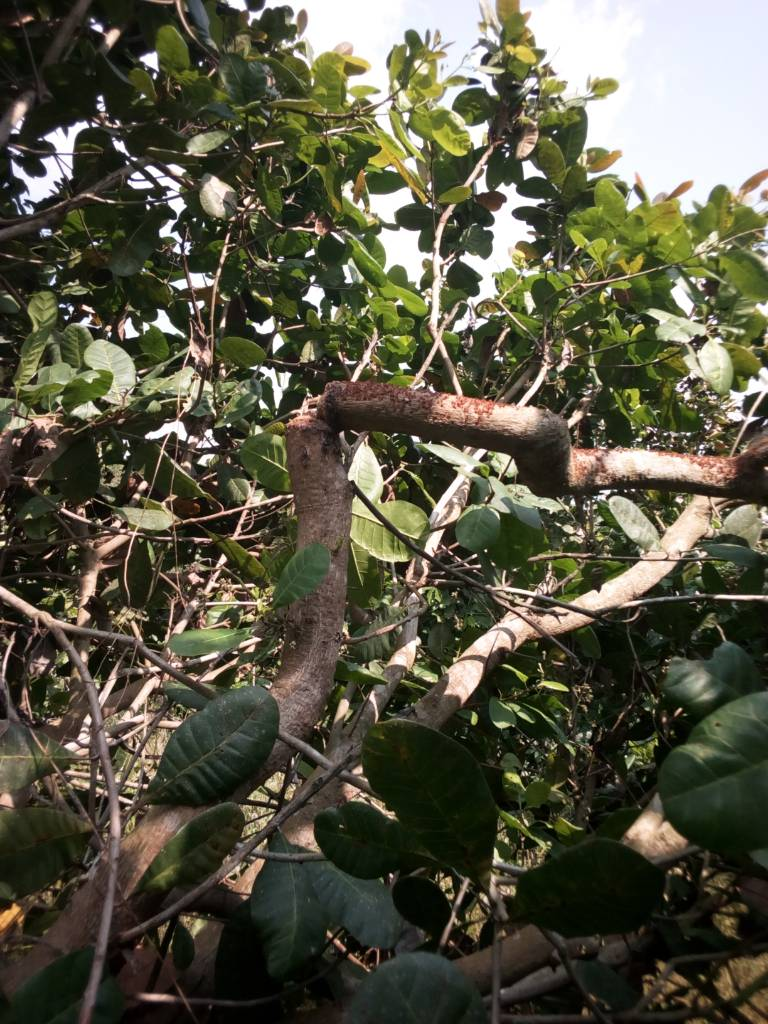Analepse trifasciata: (265, 366, 371, 460)
